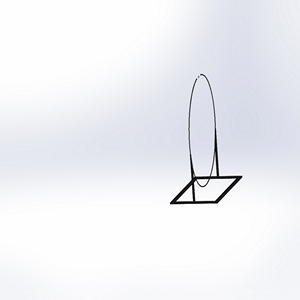circle: (168, 72, 243, 206)
